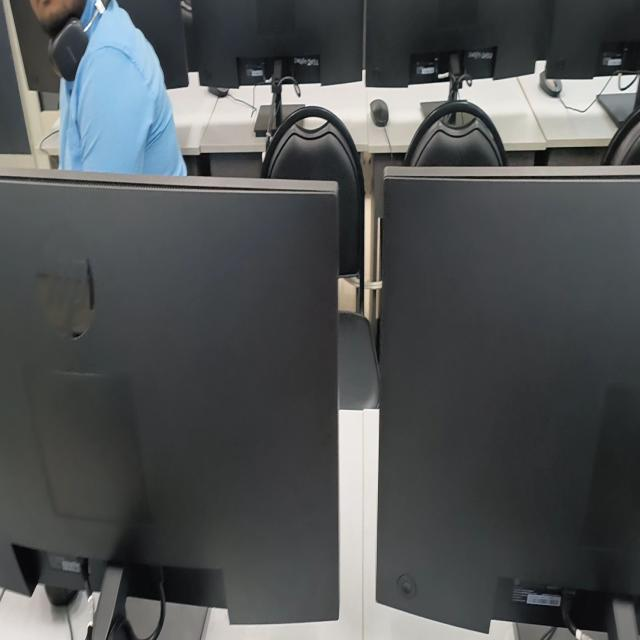Chair: (261, 106, 379, 410), (405, 72, 507, 167)
Monitor: (0, 173, 339, 623), (377, 167, 640, 632), (365, 0, 555, 87), (192, 0, 363, 88), (545, 0, 640, 79), (117, 0, 188, 88)
